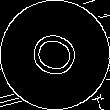O_E: (24, 26, 86, 84)
